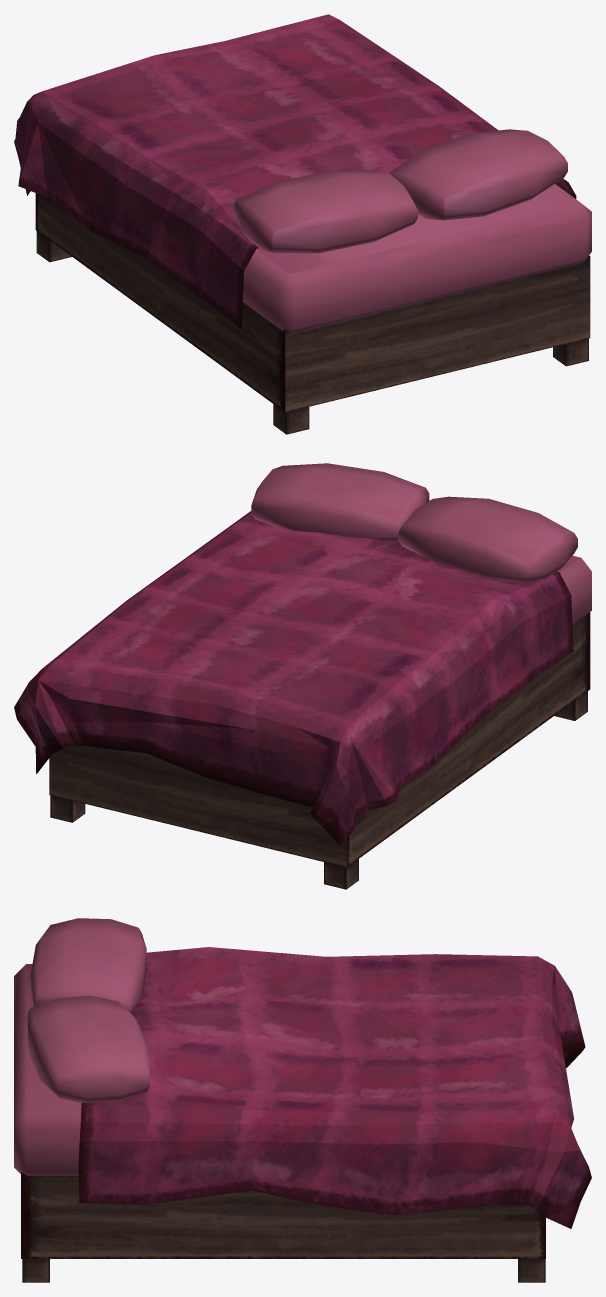
File: bed.glb
3 renders of one model, top to bottom at view 1: azimuth 30°, elevation 25°; view 2: azimuth 150°, elevation 25°; view 3: azimuth 270°, elevation 25°, orthographic. The views are drawn at different scales.
Parts seen in each view (by area): view 1: Plane; view 2: Plane; view 3: Plane.
Boxes of the visible parts, bbox=[...] form: Plane: bbox=[14, 14, 591, 434]; Plane: bbox=[14, 463, 591, 889]; Plane: bbox=[14, 918, 591, 1282].
Size of the model in its own units: 3.65 by 1.85 by 4.52.
Materials: 1 (1 with a texture image).
